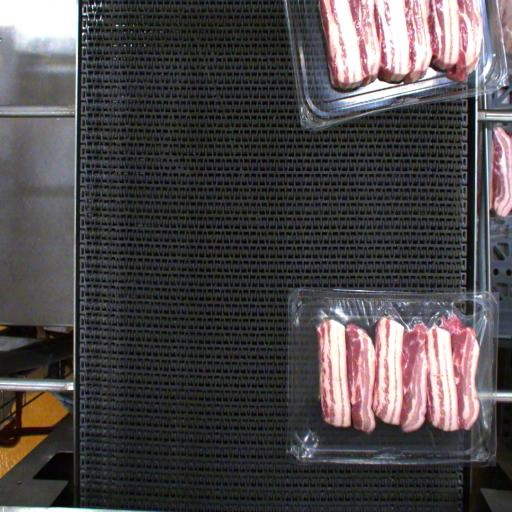unsealed: (288, 290, 489, 450)
